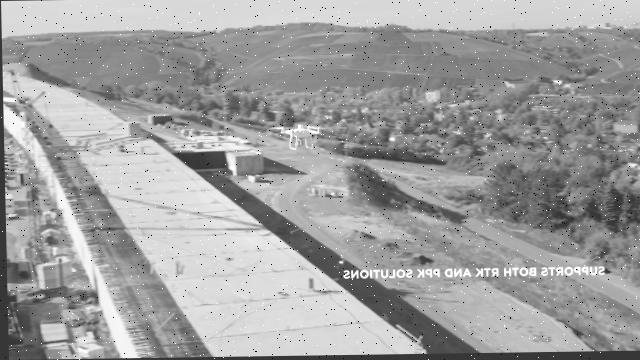drone: (266, 122, 331, 149)
